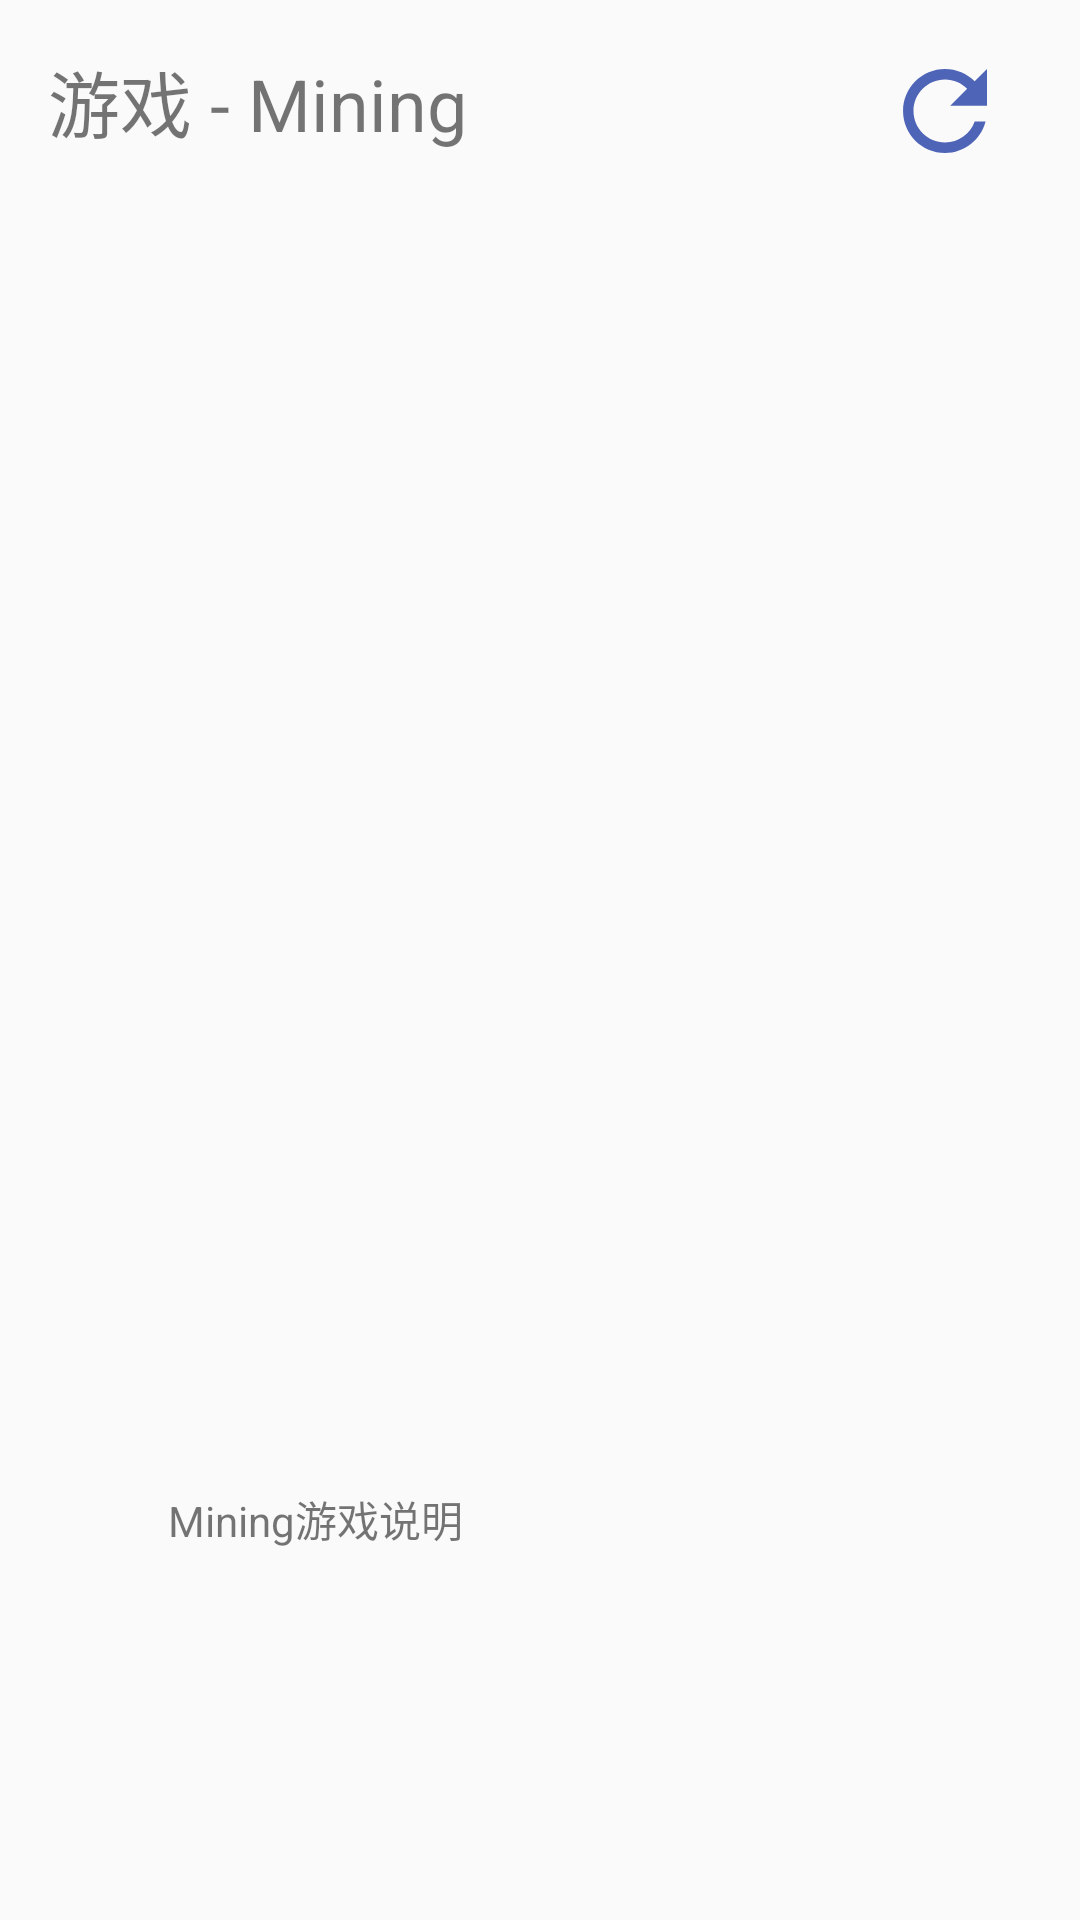

Icons on this 1080 x 1920 Android screen, each with the point to tap as point (x, y):
refresh: point (945, 111)
